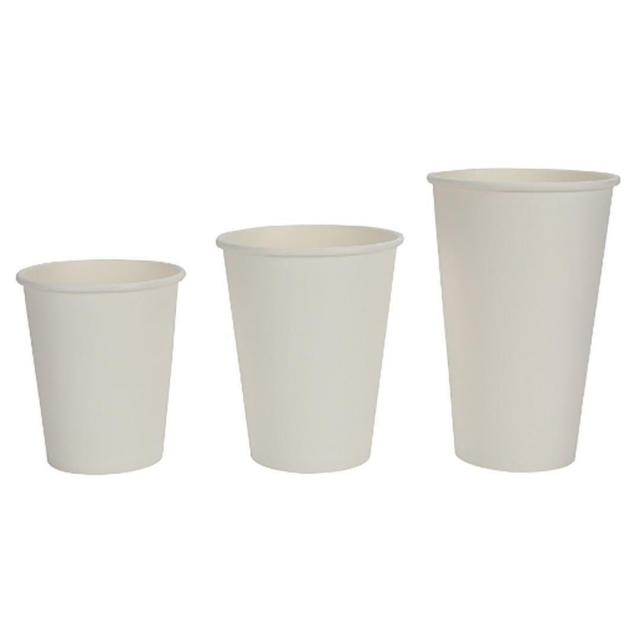cup-disposable: (420, 156, 626, 482), (211, 217, 409, 482), (12, 250, 192, 484)
